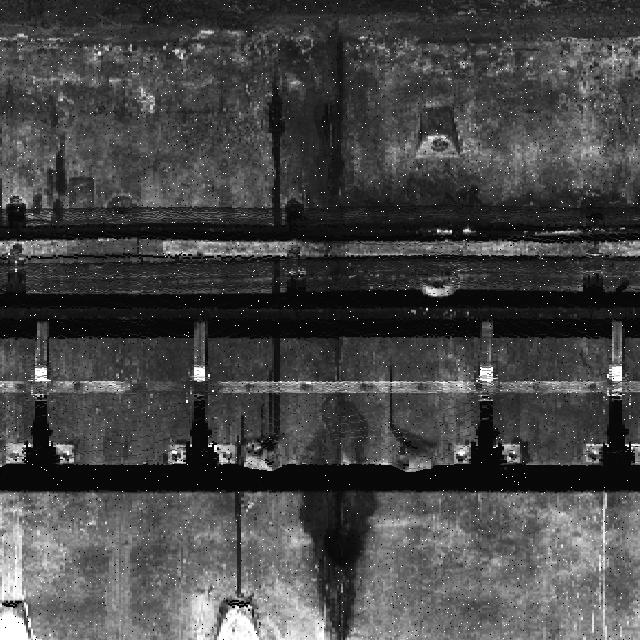leakage: (290, 395, 391, 636), (264, 16, 377, 230), (32, 122, 77, 221)
